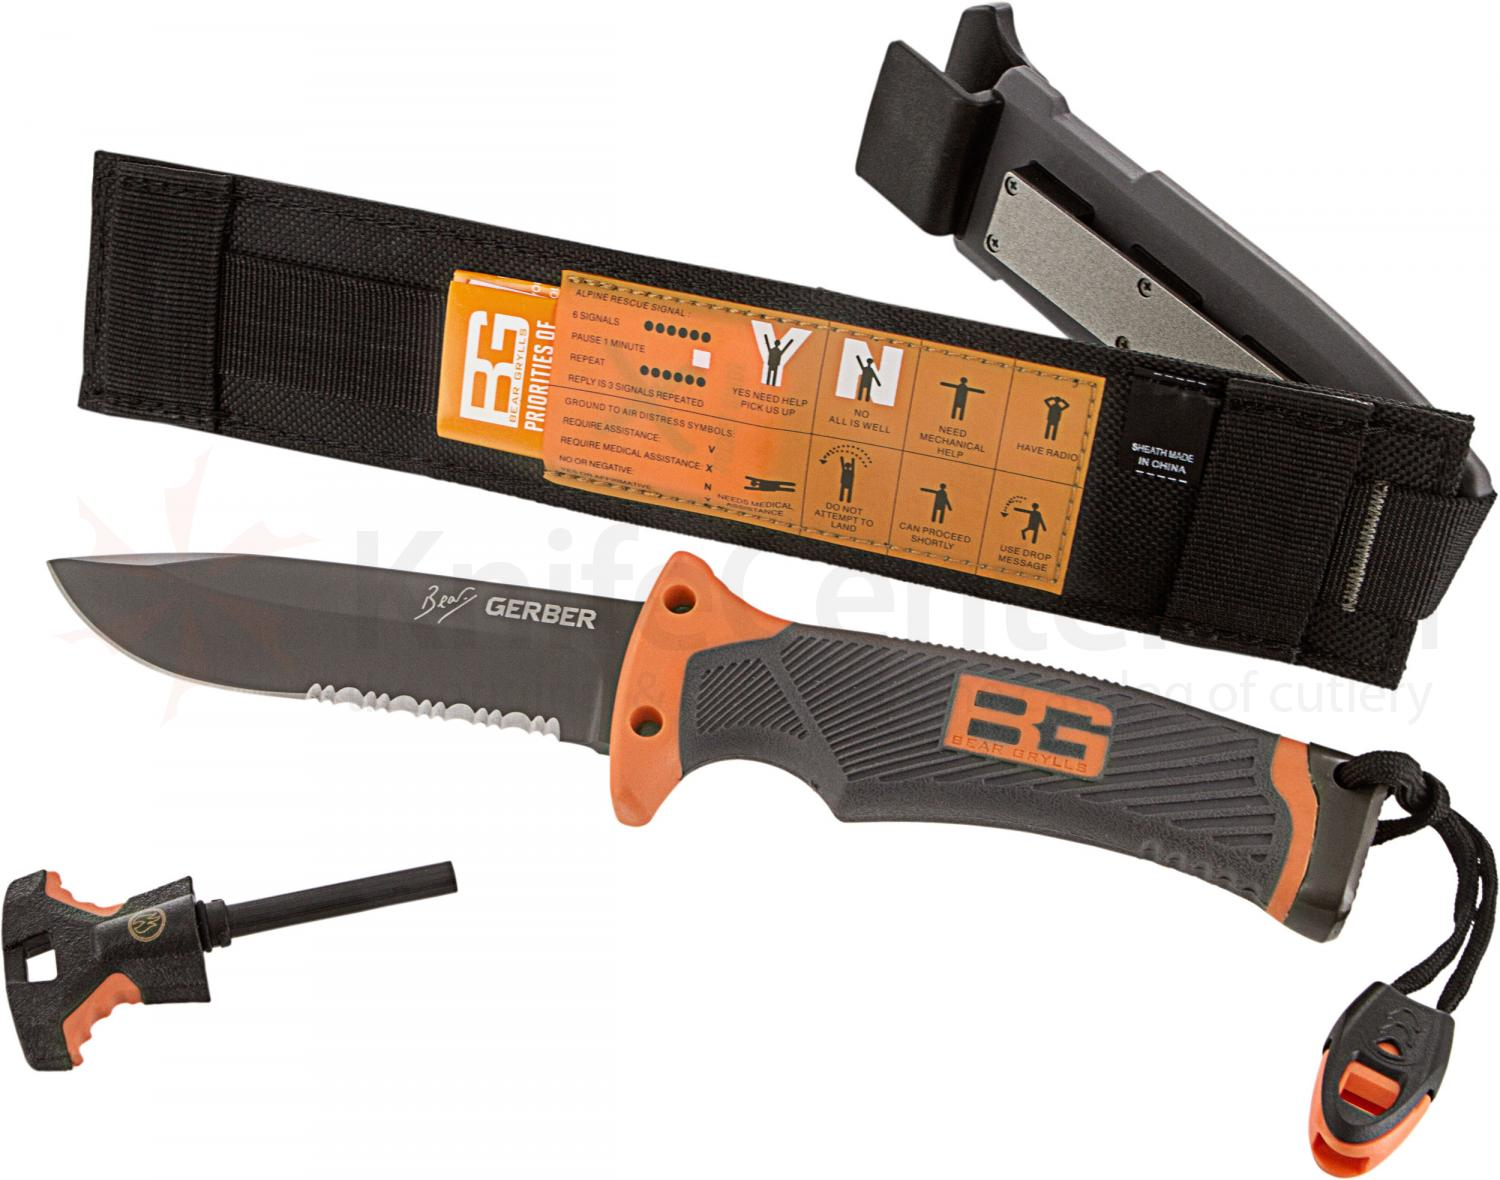knife: (38, 542, 651, 767)
